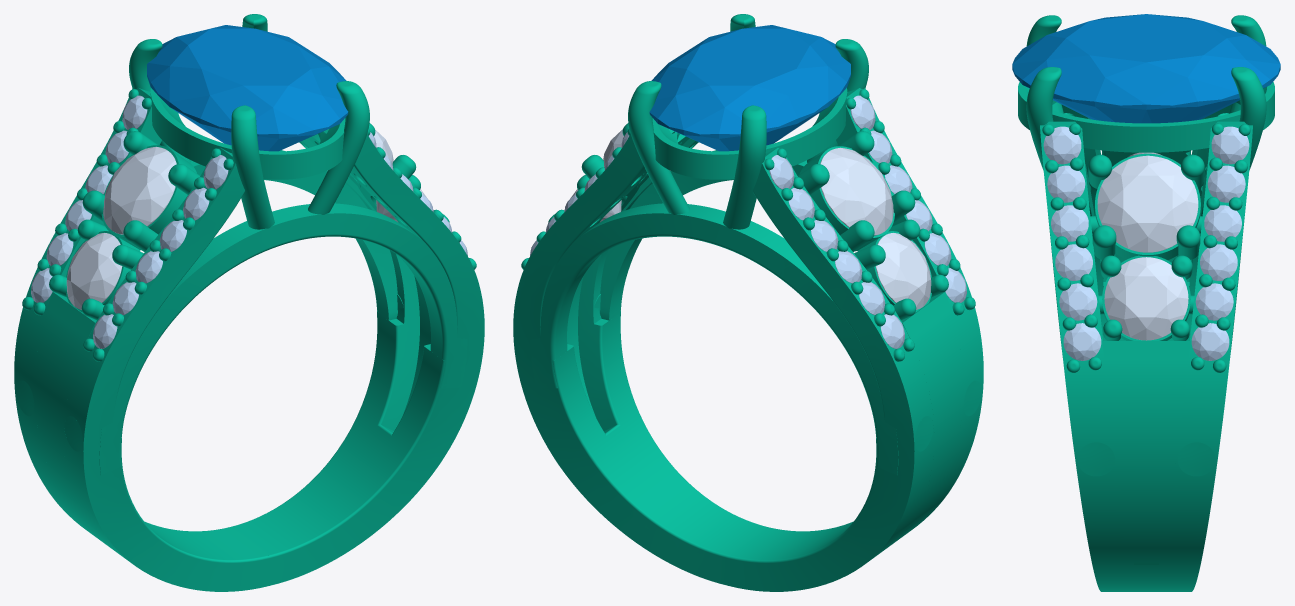
The picture shows the model from 3 angles, left to right: view 1: azimuth 30°, elevation 25°; view 2: azimuth 150°, elevation 25°; view 3: azimuth 270°, elevation 25°; orthographic projection. The views are drawn at different scales.
Parts seen in each view (by area): view 1: LR855 - RPT(front).3dm, Diamond_Oval, Diamond_Round (×10); view 2: LR855 - RPT(front).3dm, Diamond_Oval, Diamond_Round (×10); view 3: LR855 - RPT(front).3dm, Diamond_Round (×14), Diamond_Oval.
Boxes of the visible parts, x1,y1,x2,y2 form: LR855 - RPT(front).3dm: [14, 14, 484, 591]; Diamond_Oval: [147, 25, 348, 151]; Diamond_Round (×10): [46, 95, 228, 348]; LR855 - RPT(front).3dm: [513, 14, 983, 591]; Diamond_Oval: [649, 25, 850, 151]; Diamond_Round (×10): [769, 95, 951, 348]; LR855 - RPT(front).3dm: [1018, 15, 1274, 591]; Diamond_Round (×14): [1043, 126, 1249, 360]; Diamond_Oval: [1012, 14, 1280, 123].
Size of the model in its own units: 2.38 by 2.92 by 1.34.
